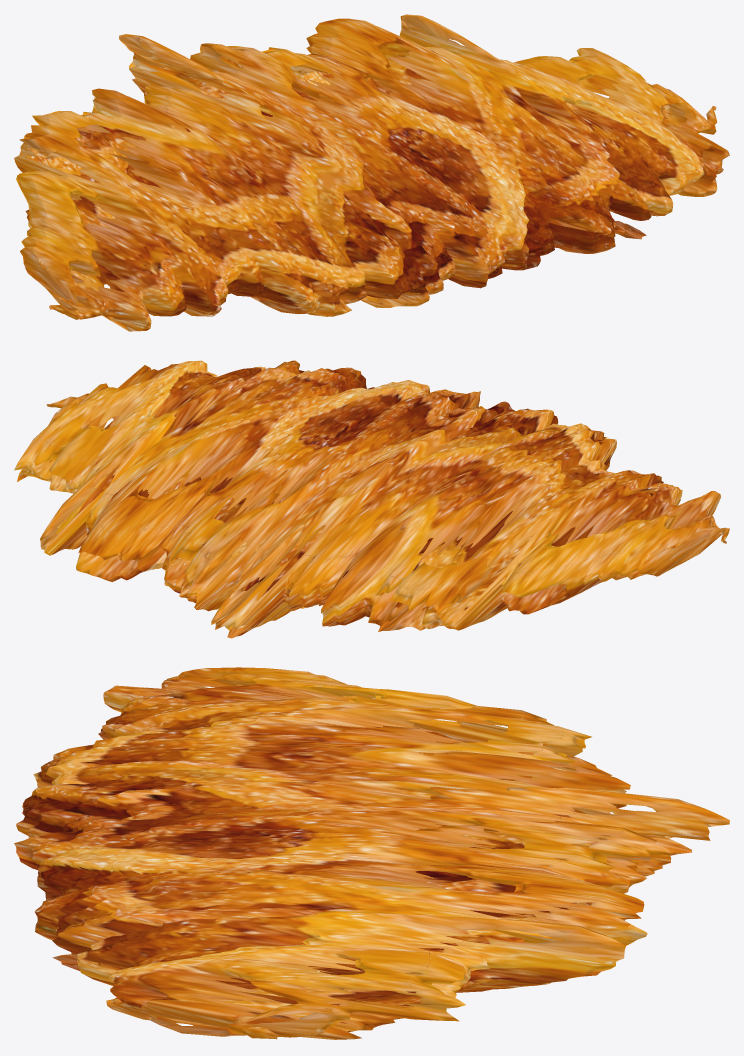
The model's file is crispy-onion.glb.
The picture shows the model from 3 angles, top to bottom: view 1: azimuth 30°, elevation 25°; view 2: azimuth 150°, elevation 25°; view 3: azimuth 270°, elevation 25°; orthographic projection. The views are drawn at different scales.
Visible parts, largest first — view 1: crispy-onion; view 2: crispy-onion; view 3: crispy-onion.
Part boxes in pixels (left/top/right/bottom): crispy-onion: left=14, top=14, right=729, bottom=331; crispy-onion: left=14, top=360, right=729, bottom=638; crispy-onion: left=14, top=667, right=729, bottom=1039.
Bounding box in the file's own units: 1.02 × 0.12 × 0.83.
1 material, 1 textured.
